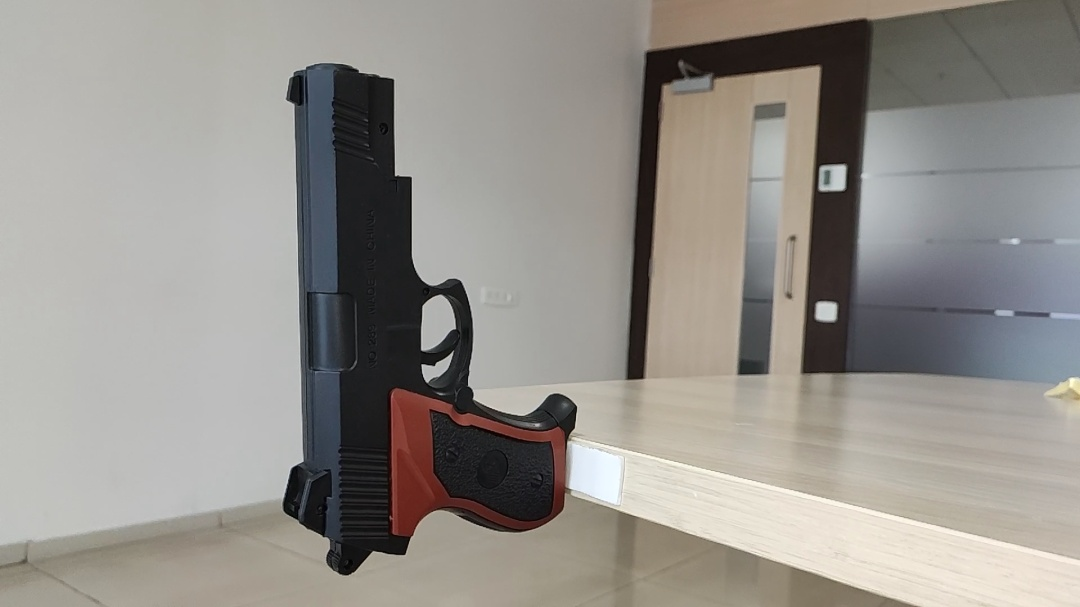gun: (279, 62, 580, 572)
